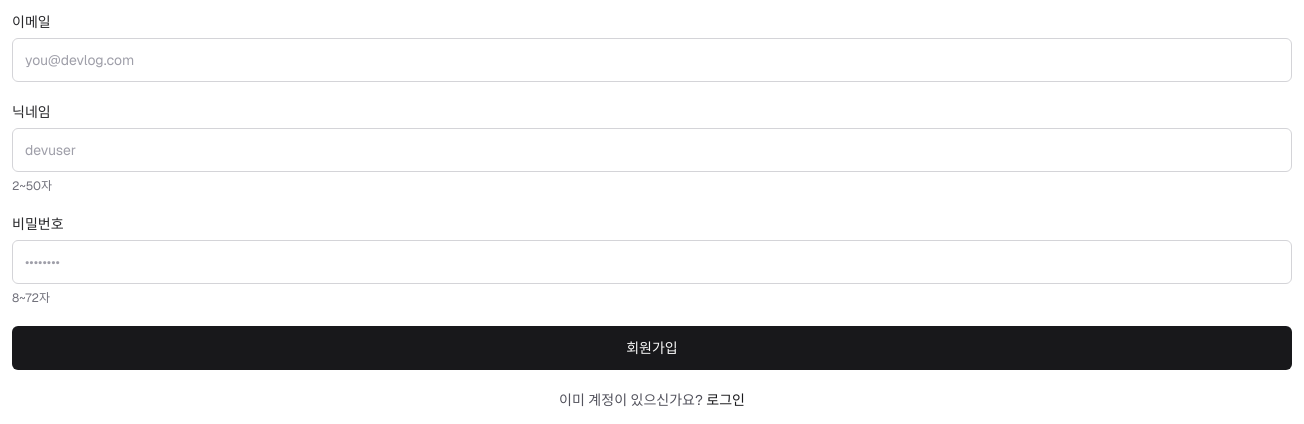
<SignupForm /> › action 이 닉네임 중복 field error 를 반환하면 해당 input 이 aria-invalid 가 된다
This screenshot has width=1304, height=424.
Type "new@devlog.com" into the field labelled "이메일" at point(652, 60), box left=12, top=38, right=1292, bottom=82
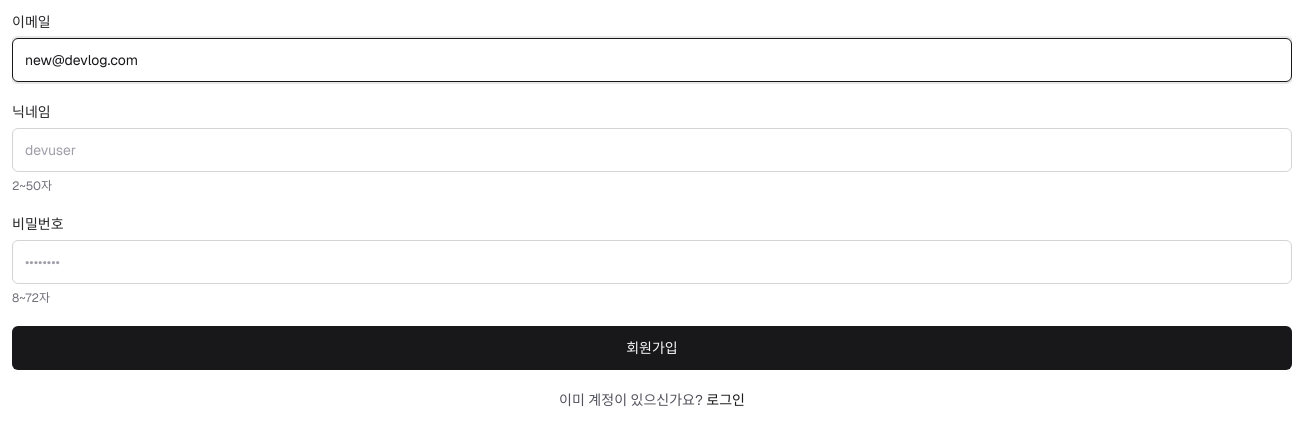
Type "taken" into the field labelled "닉네임" at point(652, 150), box left=12, top=128, right=1292, bottom=172
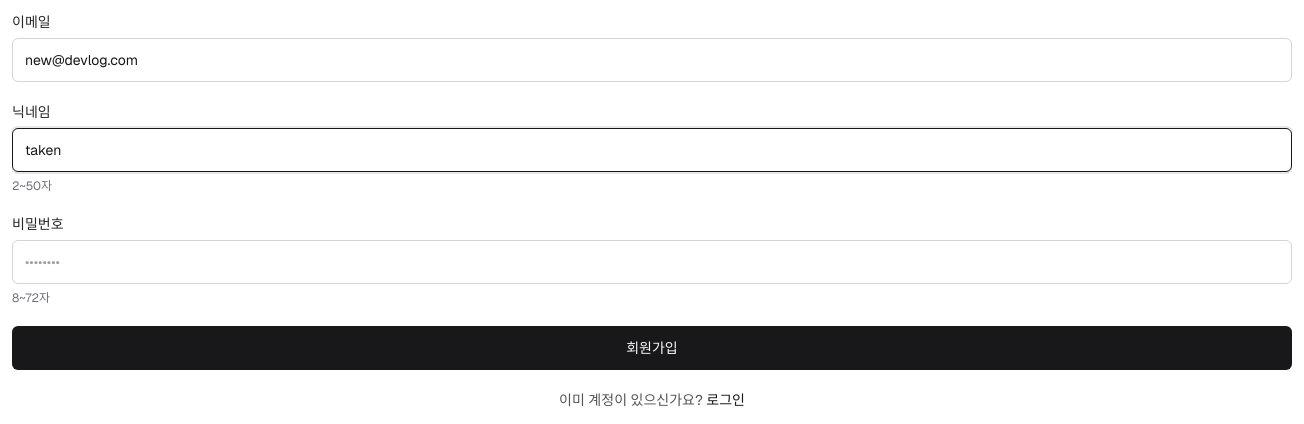
Type "password1234" into the password field labelled "비밀번호" at point(652, 262), box left=12, top=240, right=1292, bottom=284
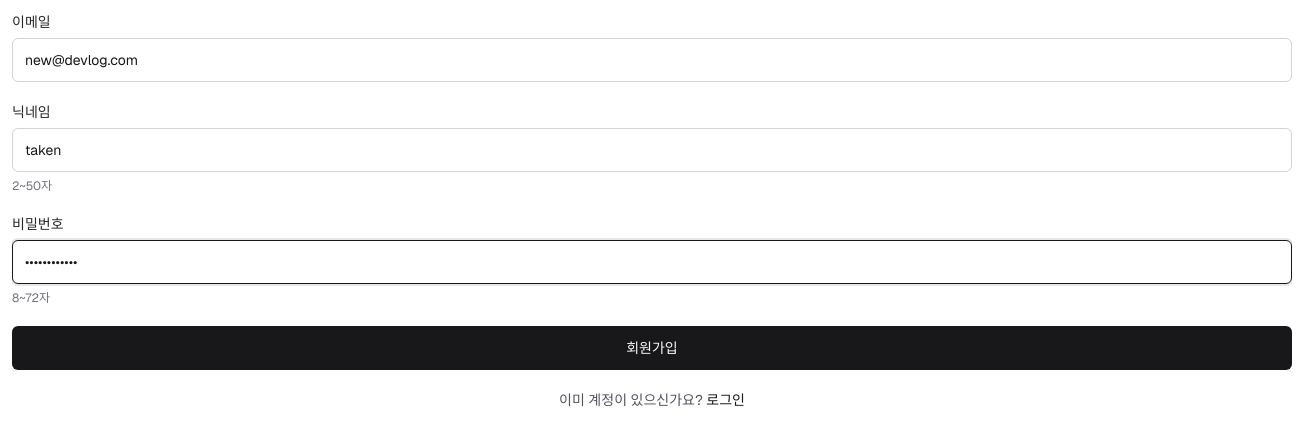
Click the button "회원가입" at point(652, 348), box left=12, top=326, right=1292, bottom=370
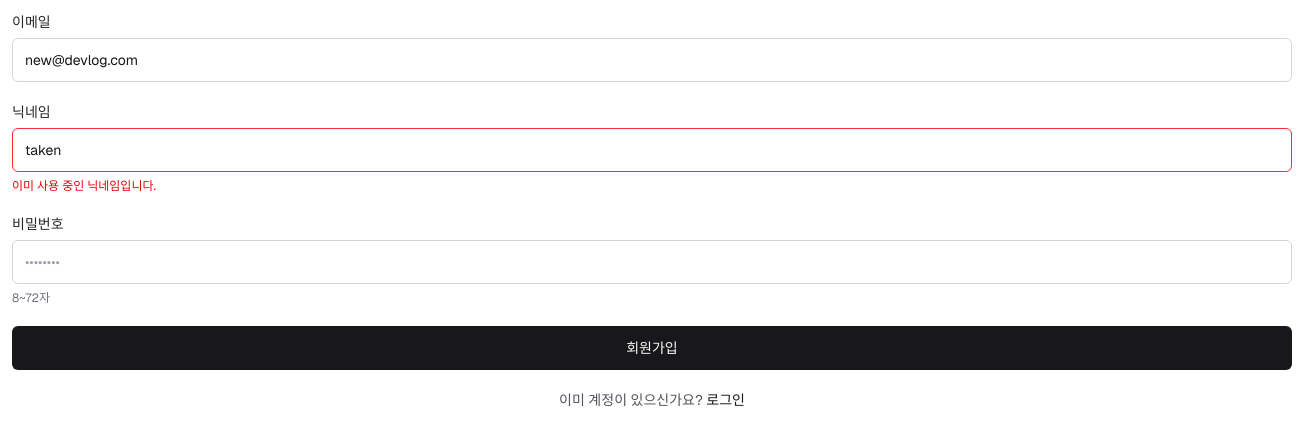
Check: the text "이미 사용 중인 닉네임입니다." is shown, box left=12, top=178, right=156, bottom=194
